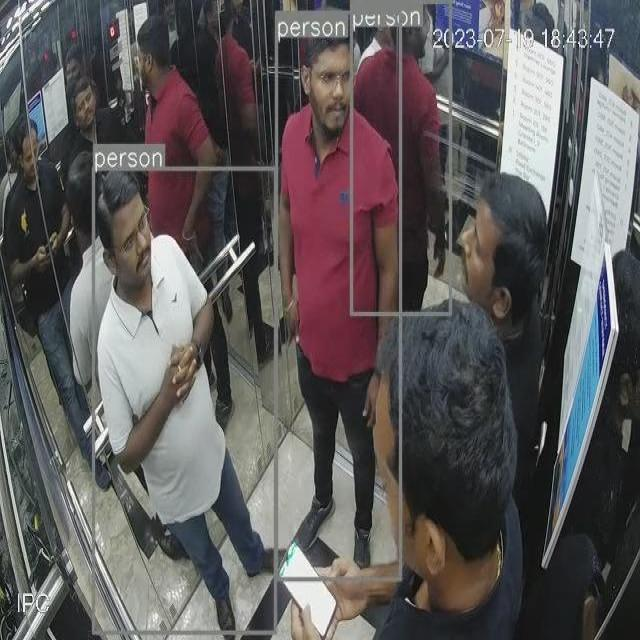person: (289, 319, 540, 636), (97, 175, 271, 628), (281, 41, 400, 578), (470, 148, 546, 532), (353, 23, 450, 320)
